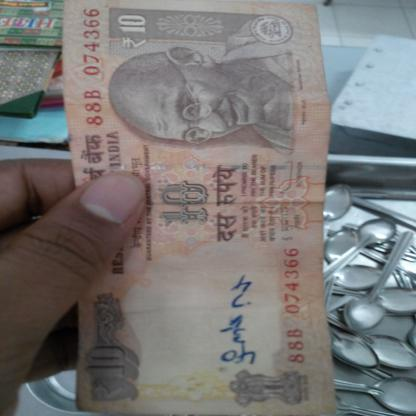Old10Front: (61, 0, 344, 416)
